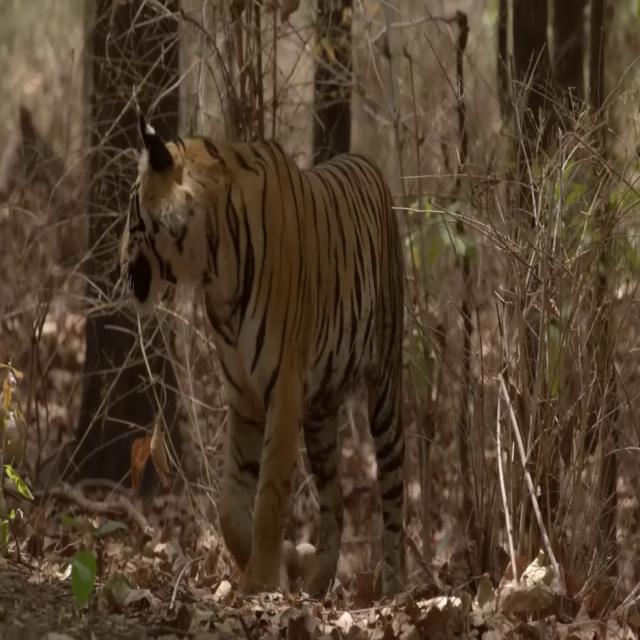tiger: (121, 112, 406, 596)
